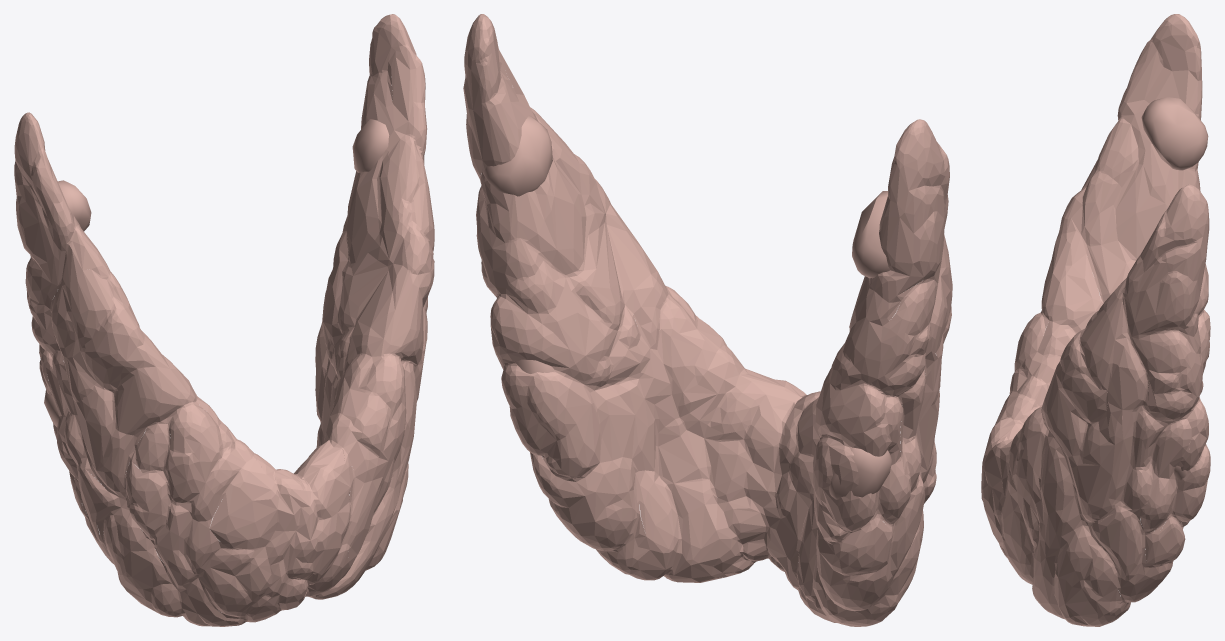
The model's file is thyroid43.glb.
The picture shows the model from 3 angles, left to right: view 1: azimuth 30°, elevation 25°; view 2: azimuth 150°, elevation 25°; view 3: azimuth 270°, elevation 25°; orthographic projection. The views are drawn at different scales.
Visible parts, largest first — view 1: bp3d_FMA13368_FJ3672, bp3d_FMA13369_FJ3671, bp3d_FMA49178_FJ3670, bp3d_FMA55561_FJ3674, bp3d_FMA55560_FJ3676; view 2: bp3d_FMA13369_FJ3671, bp3d_FMA13368_FJ3672, bp3d_FMA49178_FJ3670, bp3d_FMA55561_FJ3674, bp3d_FMA55560_FJ3676, bp3d_FMA55562_FJ3675; view 3: bp3d_FMA13369_FJ3671, bp3d_FMA13368_FJ3672, bp3d_FMA49178_FJ3670, bp3d_FMA55560_FJ3676.
Boxes of the visible parts, <box> form: bp3d_FMA13368_FJ3672: <box>14,112,268,626</box>; bp3d_FMA13369_FJ3671: <box>315,14,434,598</box>; bp3d_FMA49178_FJ3670: <box>247,432,350,622</box>; bp3d_FMA55561_FJ3674: <box>352,119,389,172</box>; bp3d_FMA55560_FJ3676: <box>57,180,91,231</box>; bp3d_FMA13369_FJ3671: <box>463,14,745,582</box>; bp3d_FMA13368_FJ3672: <box>797,119,952,626</box>; bp3d_FMA49178_FJ3670: <box>712,366,846,602</box>; bp3d_FMA55561_FJ3674: <box>481,115,552,196</box>; bp3d_FMA55560_FJ3676: <box>852,191,889,278</box>; bp3d_FMA55562_FJ3675: <box>829,446,892,499</box>; bp3d_FMA13369_FJ3671: <box>1001,184,1210,626</box>; bp3d_FMA13368_FJ3672: <box>998,14,1210,521</box>; bp3d_FMA49178_FJ3670: <box>981,391,1043,584</box>; bp3d_FMA55560_FJ3676: <box>1141,97,1208,170</box>.
Bounding box in the file's own units: 0.0412 × 0.0499 × 0.0211.
